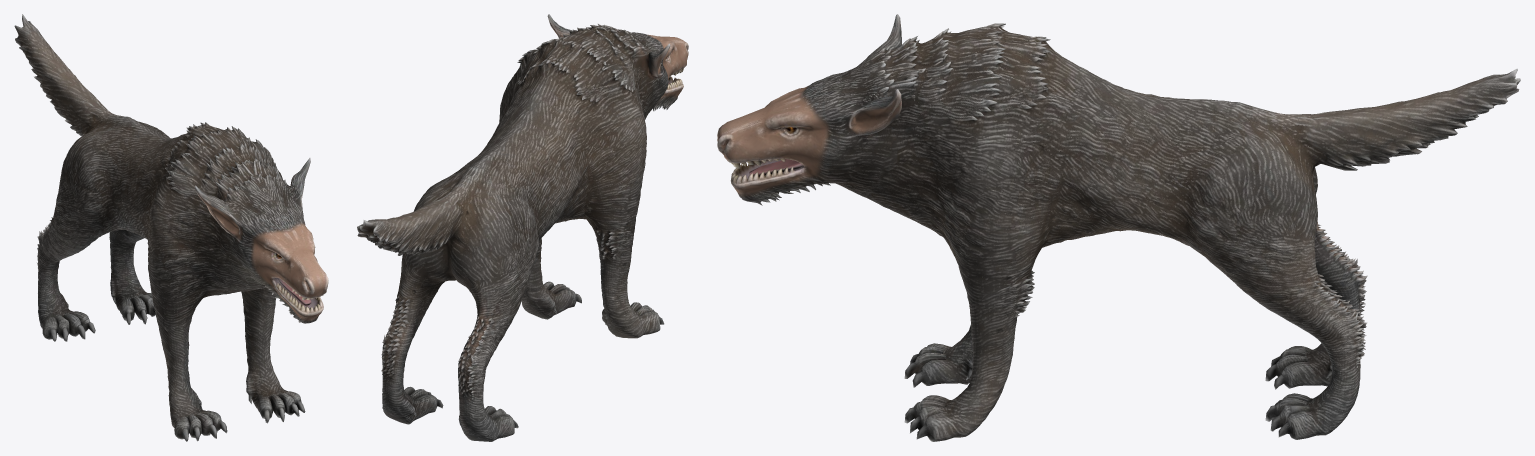
The model's file is MZ4250 - Worg.glb.
3 renders of one model, left to right at view 1: azimuth 30°, elevation 25°; view 2: azimuth 150°, elevation 25°; view 3: azimuth 270°, elevation 25°, orthographic. The views are drawn at different scales.
Visible parts, largest first — view 1: Wolf Hound.001; view 2: Wolf Hound.001; view 3: Wolf Hound.001.
Part boxes in pixels (x1=…): Wolf Hound.001: x1=14, y1=14, x2=328, y2=441; Wolf Hound.001: x1=357, y1=14, x2=688, y2=441; Wolf Hound.001: x1=717, y1=14, x2=1520, y2=441.
Bounding box in the file's own units: 18.69 × 37.83 × 73.8.
Materials: 1 (1 with a texture image).
